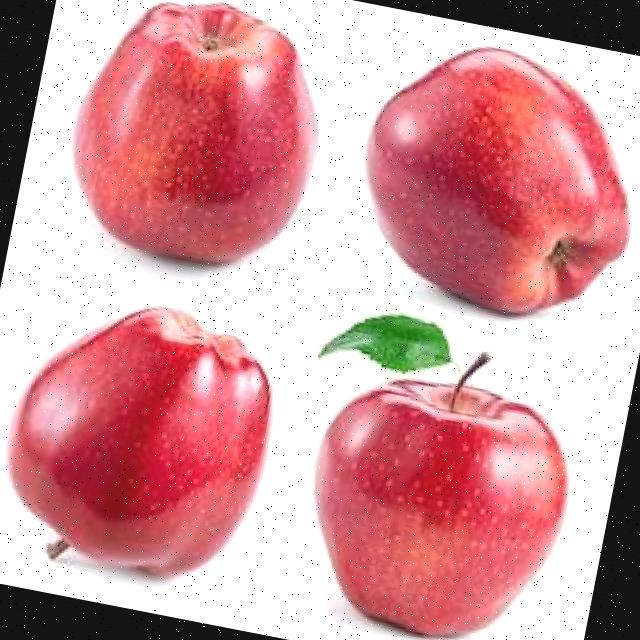apple: (337, 25, 640, 336), (0, 279, 291, 595), (284, 357, 589, 640), (50, 0, 344, 285)
